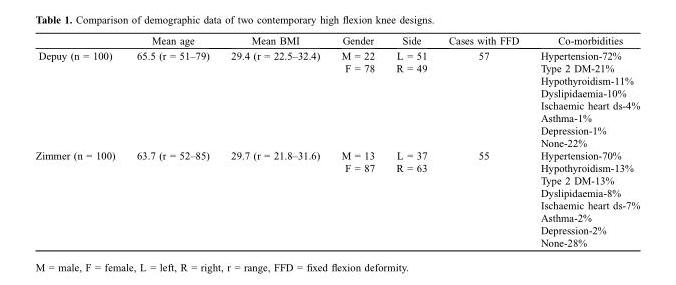table: (34, 34, 639, 248)
table column: (219, 34, 329, 248), (529, 34, 639, 248), (125, 34, 219, 248), (437, 34, 529, 248), (34, 34, 125, 248), (329, 34, 384, 248), (384, 34, 437, 248)
table column header: (34, 34, 639, 47)
table row: (34, 47, 639, 61), (34, 34, 639, 47), (34, 73, 639, 86), (34, 98, 639, 111), (34, 123, 639, 136), (34, 148, 639, 161), (34, 173, 639, 186), (34, 198, 639, 211), (34, 235, 639, 248), (34, 61, 639, 73), (34, 86, 639, 98), (34, 111, 639, 123), (34, 136, 639, 148), (34, 161, 639, 173), (34, 186, 639, 198), (34, 211, 639, 223), (34, 223, 639, 235)
table spanning cell: (34, 47, 125, 148), (34, 148, 125, 248)
